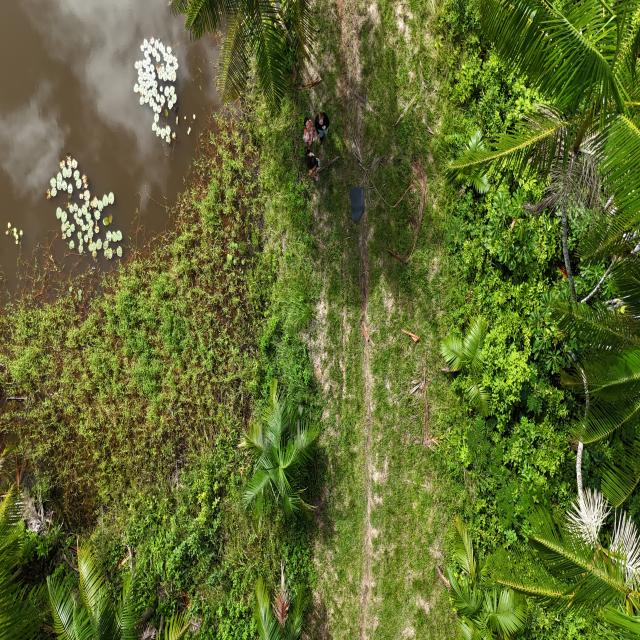vegetation: (436, 1, 639, 637)
